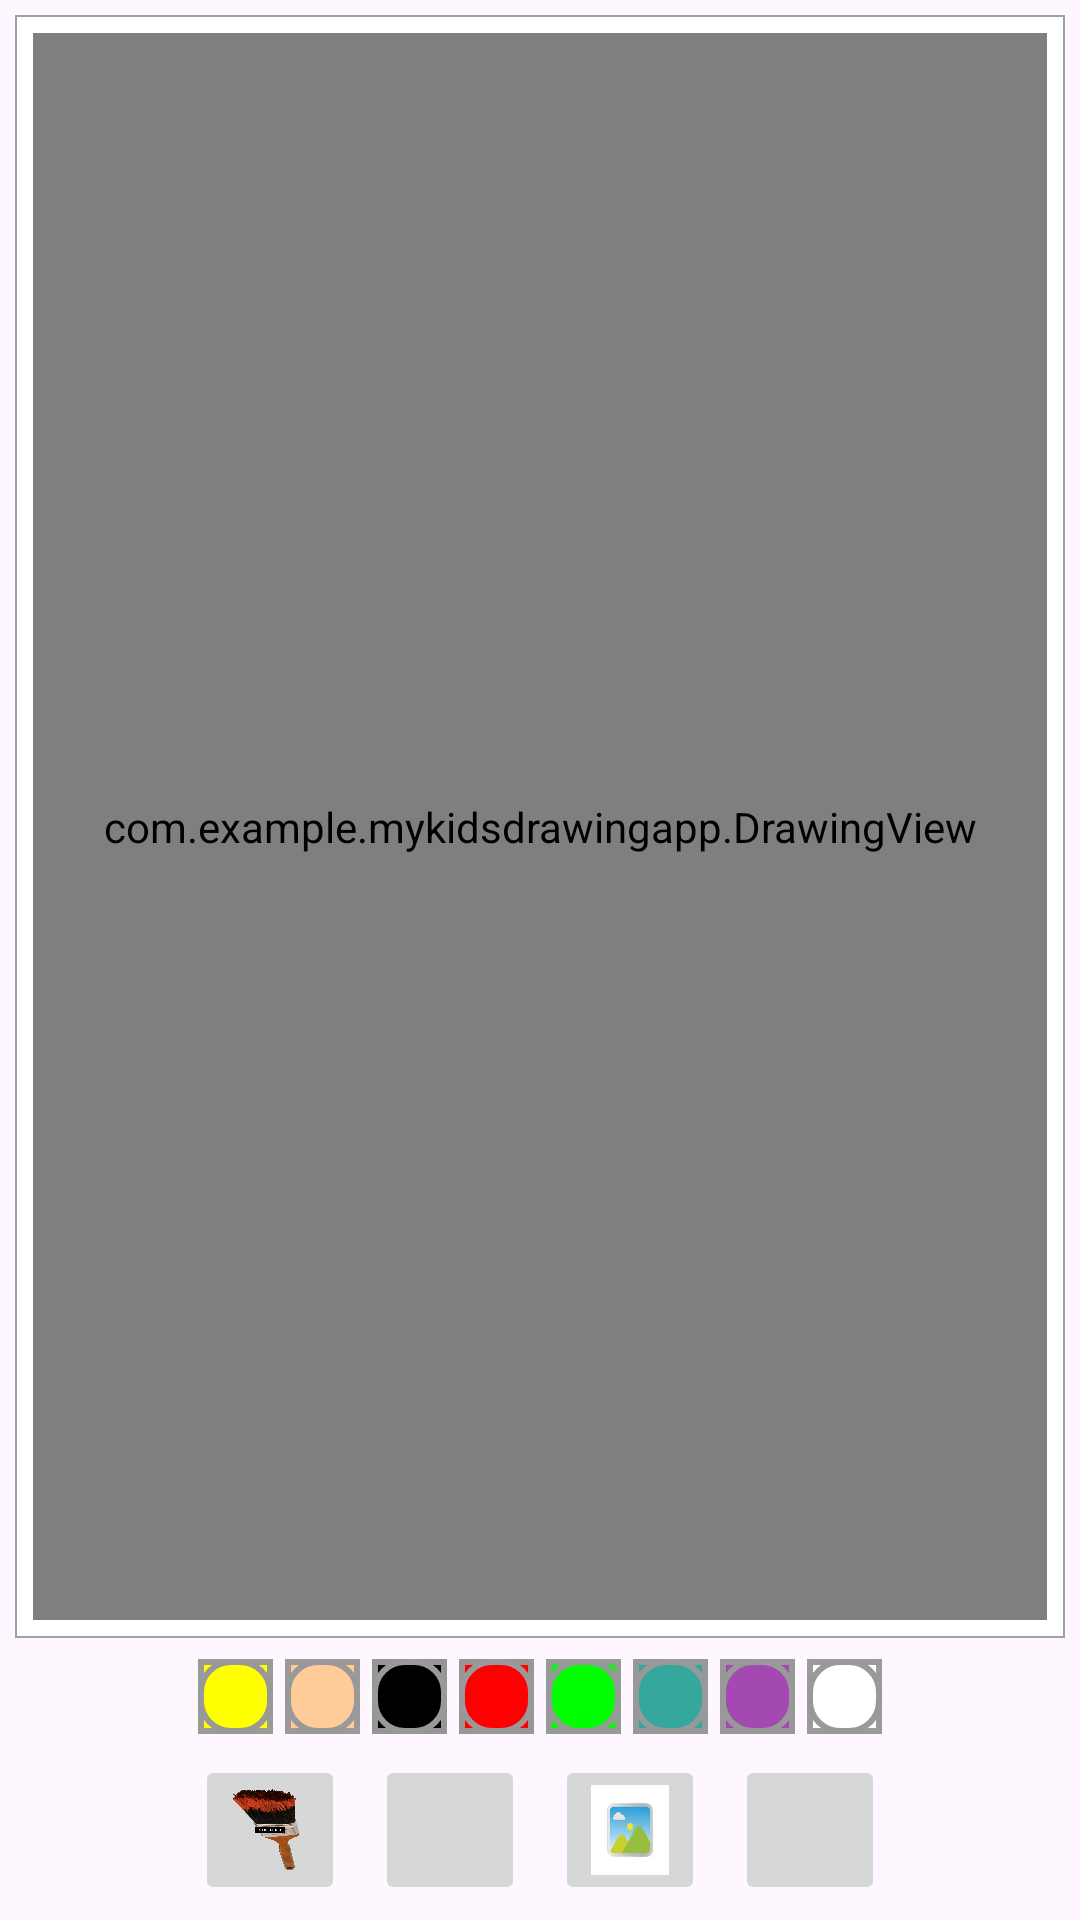

Point at icon controls on the screen. Image size 1080*1920, points as (x=x, y=y).
brush: (x=270, y=1830)
galery: (x=630, y=1830)
